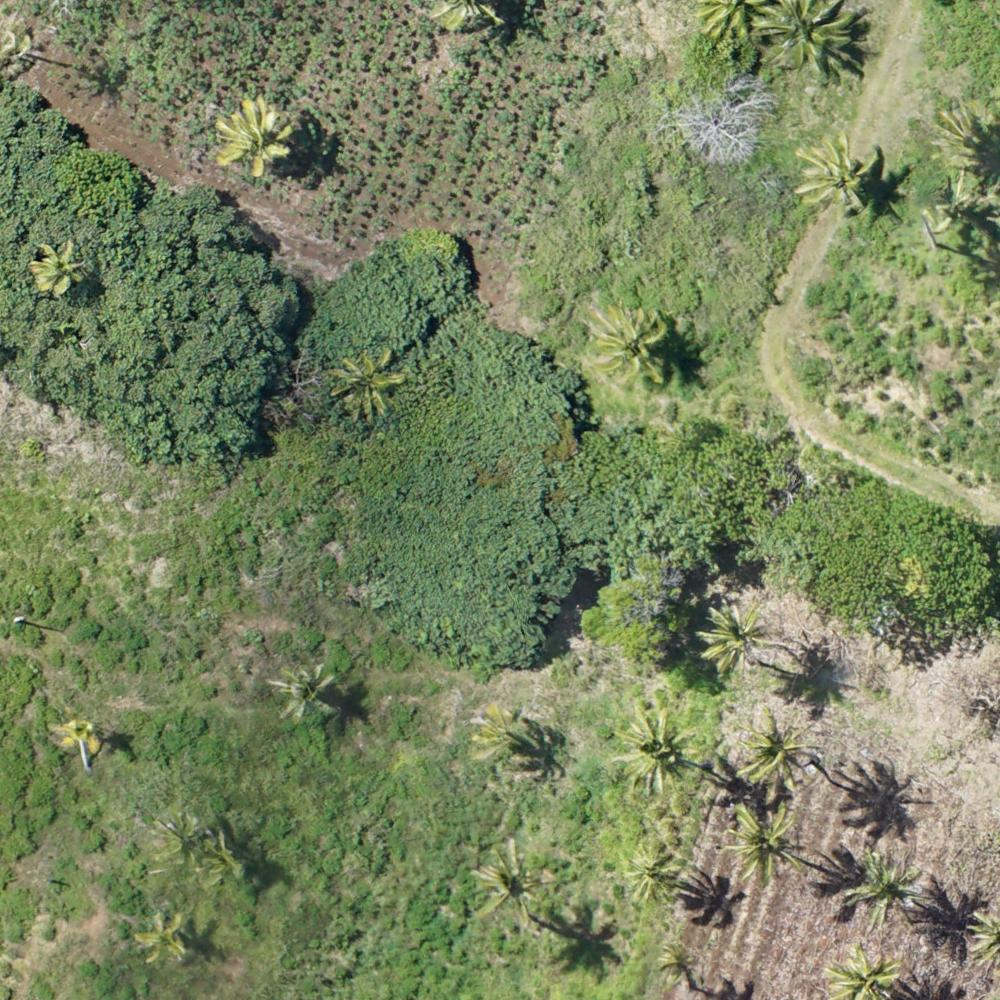Palm: (612, 708, 704, 801), (758, 1, 858, 80), (469, 842, 553, 929), (733, 715, 818, 794), (721, 807, 808, 883), (793, 139, 878, 215), (590, 307, 672, 385), (703, 593, 778, 677), (849, 848, 924, 926), (218, 98, 295, 173), (334, 351, 403, 417), (821, 944, 900, 1000), (620, 840, 685, 906), (265, 660, 334, 722), (468, 705, 530, 763), (151, 812, 208, 875), (28, 241, 88, 296), (135, 914, 189, 967)
